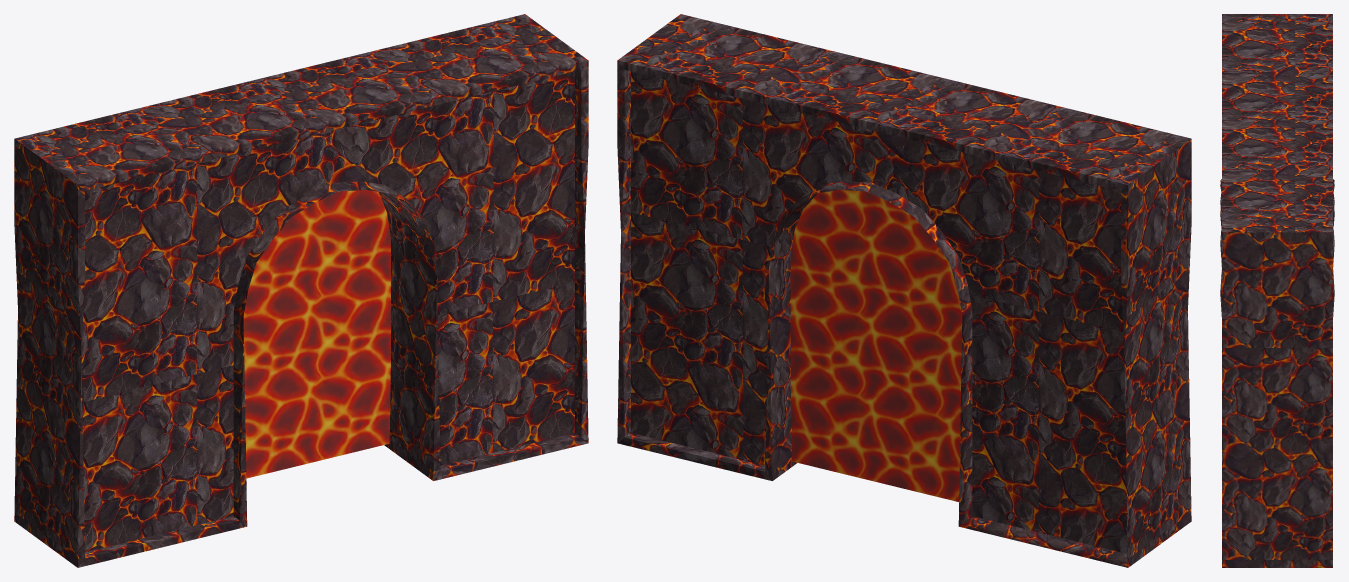
The model's file is lava wall.fbx.
3 views of the same model, side by side, from view 1: azimuth 30°, elevation 25°; view 2: azimuth 150°, elevation 25°; view 3: azimuth 270°, elevation 25° (orthographic). The views are drawn at different scales.
Parts seen in each view (by area): view 1: wall_lawa, pPlane1; view 2: wall_lawa, pPlane1; view 3: wall_lawa.
Boxes of the visible parts, x1,y1,x2,y2 form: wall_lawa: [14, 14, 588, 567]; pPlane1: [243, 190, 390, 478]; wall_lawa: [617, 14, 1191, 567]; pPlane1: [790, 190, 962, 501]; wall_lawa: [1220, 14, 1334, 567].
Size of the model in its own units: 339 by 243 by 75.03.
